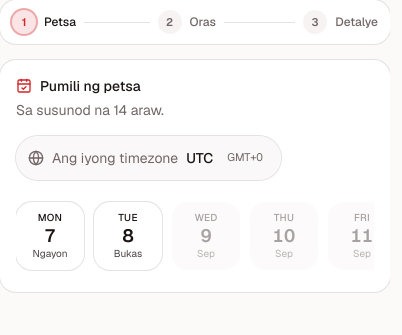
Test case: BookingFlow as a wizard › advances to the times once a date is picked
This screenshot has width=402, height=335.
Click the button "Mon 7 Ngayon".
click(50, 236)  # box [16,202,84,270]
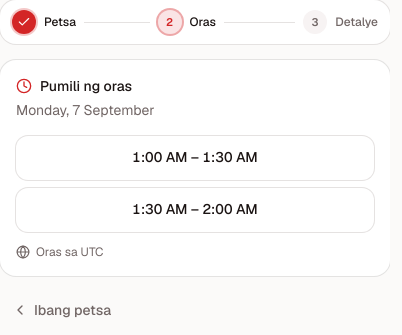
Now the text "Pumili ng oras" is shown, box [16,77,132,95]
Now the text "Pumili ng petsa" is gone
